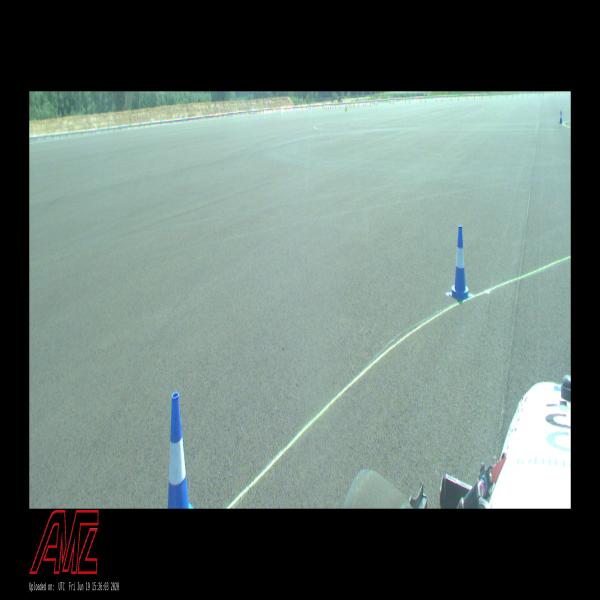blue_cone: (168, 392, 194, 509), (449, 226, 471, 301), (560, 111, 562, 123)
